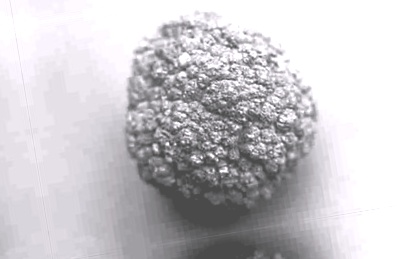halobolite: (95, 0, 336, 235)
